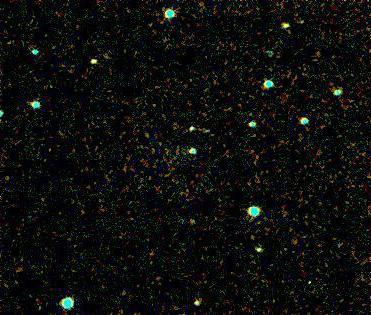star: (290, 266, 320, 296)
